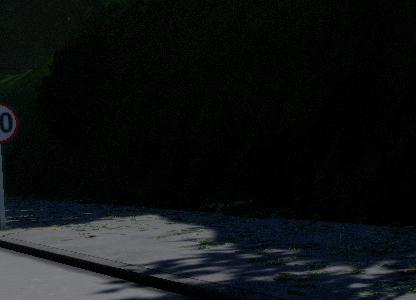Speed_30: (0, 98, 22, 148)
